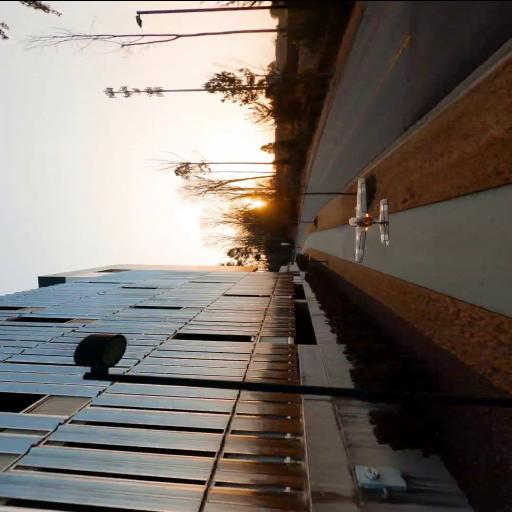uav: (341, 175, 397, 263)
